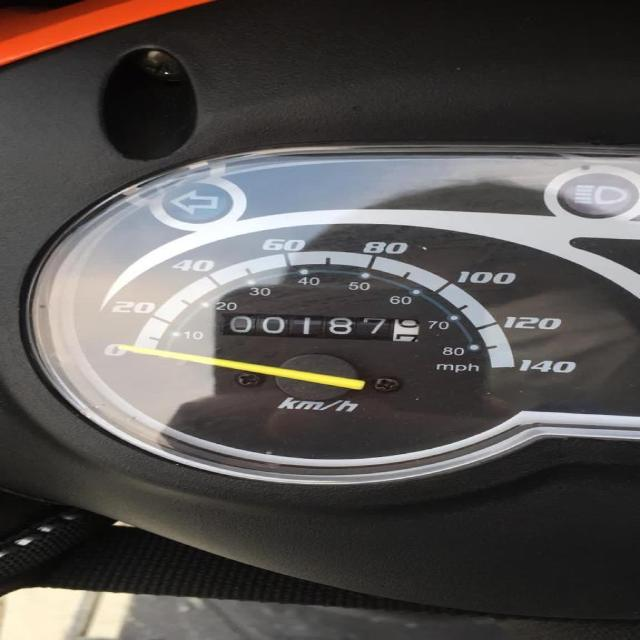odometer: (210, 309, 424, 344)
